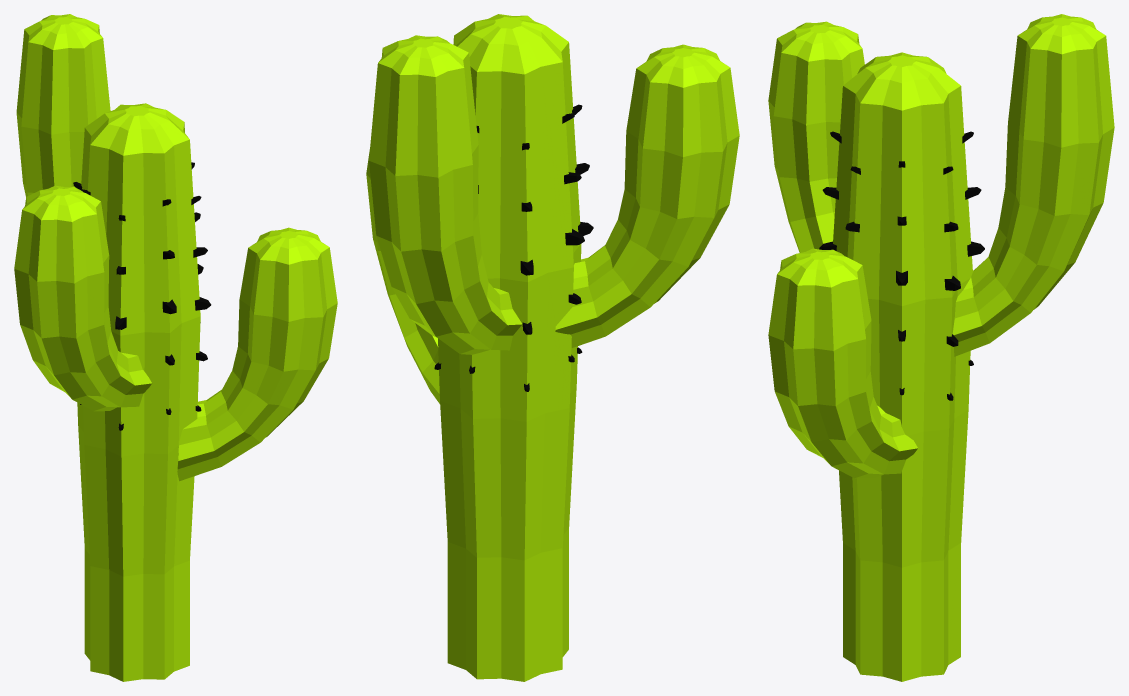
The model's file is Cardon02_03Brazos_Sin_Flor.fbx.
The picture shows the model from 3 angles, left to right: view 1: azimuth 30°, elevation 25°; view 2: azimuth 150°, elevation 25°; view 3: azimuth 270°, elevation 25°; orthographic projection. The views are drawn at different scales.
Visible parts, largest first — view 1: Cactus, Espinas; view 2: Cactus, Espinas; view 3: Cactus, Espinas.
Boxes of the visible parts, bbox=[...] form: Cactus: bbox=[14, 14, 337, 681]; Espinas: bbox=[73, 162, 211, 430]; Cactus: bbox=[366, 14, 739, 681]; Espinas: bbox=[434, 104, 593, 391]; Cactus: bbox=[768, 14, 1114, 681]; Espinas: bbox=[819, 131, 984, 400].
Bounding box in the file's own units: 124 × 225 × 111.
